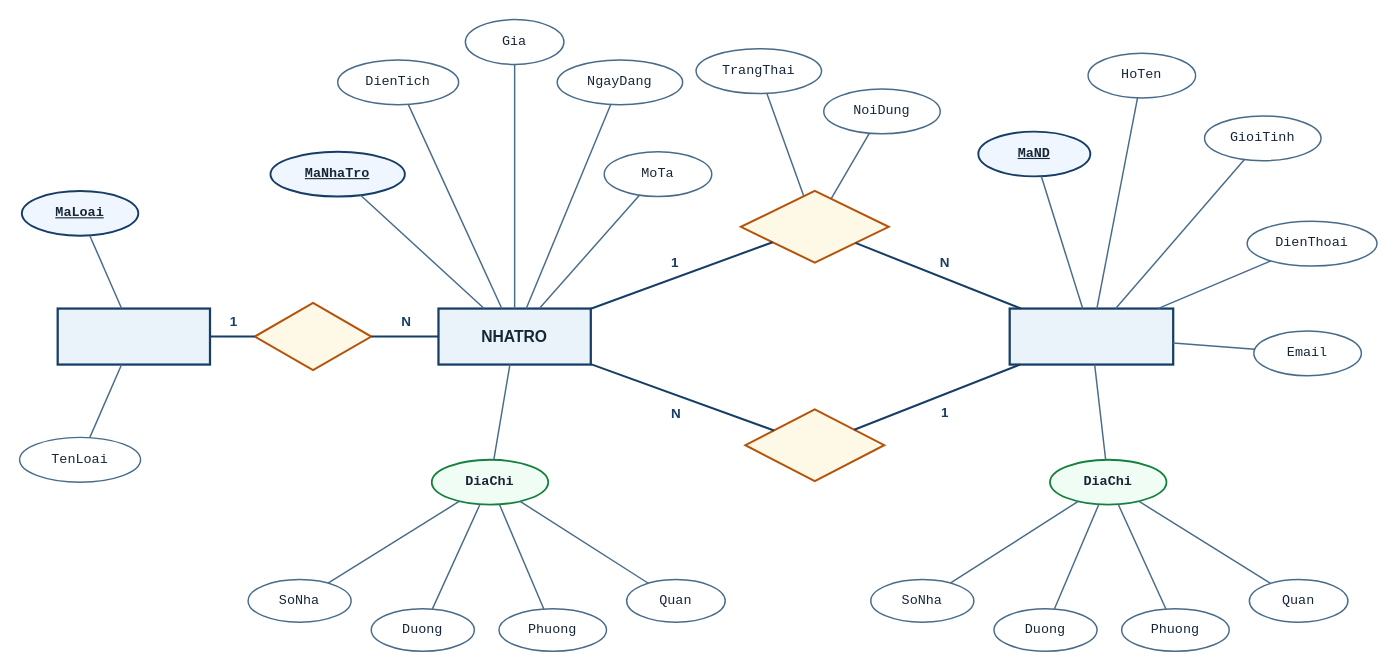
Image size: 1398x672. Some labels were removed from this diagram. Each missing label, with the centre of its shape:
LIÊN HỆ: the point at 814,444
LOAINHA: the point at 133,336
NGUOIDUNG: the point at 1091,336
THUỘC: the point at 312,336
ĐÁNH GIÁ: the point at 814,226
